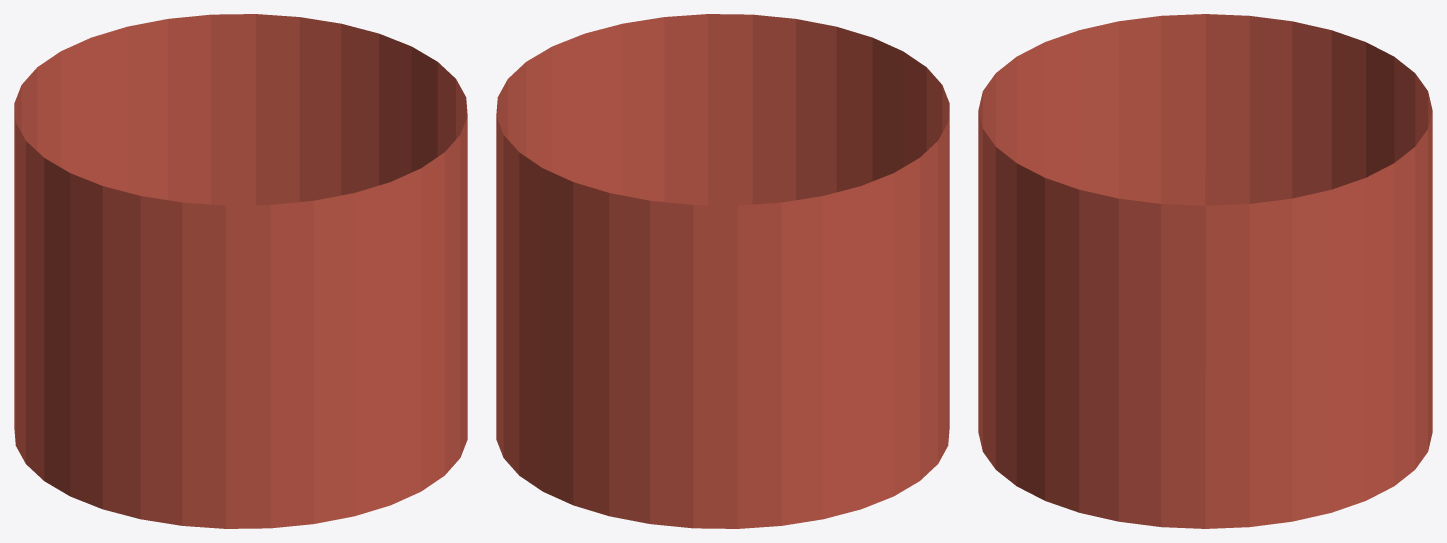
Rendered from GroundInsideRound.fbx.
The picture shows the model from 3 angles, left to right: view 1: azimuth 30°, elevation 25°; view 2: azimuth 150°, elevation 25°; view 3: azimuth 270°, elevation 25°; orthographic projection.
Visible parts, largest first — view 1: Circle; view 2: Circle; view 3: Circle.
Part boxes in pixels (left/top/right/bottom): Circle: left=14, top=14, right=467, bottom=528; Circle: left=496, top=14, right=949, bottom=528; Circle: left=978, top=14, right=1432, bottom=528.
Size of the model in its own units: 1835 by 1441 by 1835.
